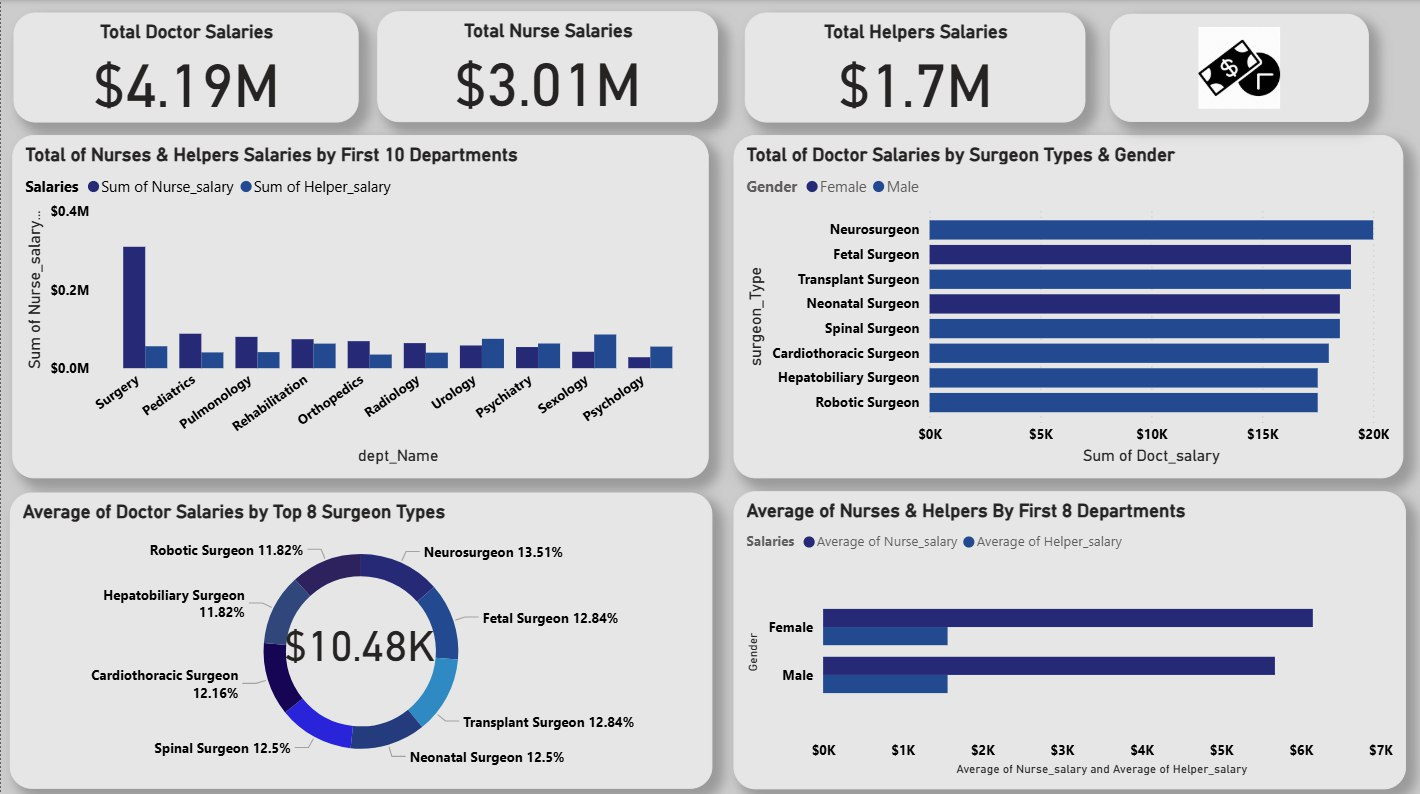

This screenshot's page, from the dashboard's own definition file:
{"tool":"powerbi","page":{"name":"2","canvas":[1280,720],"ordinal":1},"visuals":[{"type":"card","title":"Total Doctor Salaries","fields":{"Values":["Sum(Doctors.Doct_salary)"]},"box":[11.6,11.6,310.9,98.9],"z":0},{"type":"card","title":"Total Nurse Salaries","fields":{"Values":["Sum(Nurse.Nurse_salary)"]},"box":[339.1,10.3,307,100.2],"z":1000},{"type":"card","title":"Total Helpers  Salaries","fields":{"Values":["Sum(Helpers.Helper_salary)"]},"box":[670.6,11.6,307,98.9],"z":2000},{"type":"clusteredColumnChart","title":"Total of Nurses & Helpers Salaries by First 10 Departments","fields":{"Y":["Sum(Nurse.Nurse_salary)","Sum(Helpers.Helper_salary)"],"Category":["Department.dept_Name"]},"box":[10.3,122,628.2,309.6],"z":3000},{"type":"group","id":"g1","title":"Group 1","box":[7.7,444.5,633.3,267.2],"z":3000,"group":"g2"},{"type":"donutChart","title":"Average of Doctor Salaries by Top 8 Surgeon Types","fields":{"Y":["Avg(Doctors.Doct_salary)"],"Category":["Doctors.surgeon_Type"]},"box":[7.7,444.5,633.3,267.2],"z":3000,"group":"g3"},{"type":"group","id":"g2","title":"Group 3","box":[7.7,444.5,633.3,267.2],"z":4000},{"type":"group","id":"g3","title":"Group 2","box":[7.7,444.5,633.3,267.2],"z":4003,"group":"g1"},{"type":"barChart","title":"Total of Doctor Salaries by Surgeon Types & Gender","fields":{"Y":["Sum(Doctors.Doct_salary)"],"Series":["Doctors.Gender"],"Category":["Doctors.surgeon_Type"]},"box":[660.3,122,603.8,309.6],"z":5000},{"type":"card","fields":{"Values":["Avg(Doctors.Doct_salary)"]},"box":[199.6,549.9,247.9,57.5],"z":5000,"group":"g2"},{"type":"clusteredBarChart","title":"Average of Nurses & Helpers By First 8 Departments","fields":{"Y":["Avg(Nurse.Nurse_salary)","Avg(Helpers.Helper_salary)"],"Category":["Nurse.Gender"]},"box":[660.3,443.2,606.3,268.5],"z":6000},{"type":"image","box":[999.4,12.8,233.8,97.6],"z":8000}]}

Visuals, with their boxes in screenshot pixels (x1, y1, x2, y2), scaled from the page's 1280x720 canvas onto the 1420x794 screenshot:
"Total Doctor Salaries" card: Rect(13, 13, 358, 122)
"Total Nurse Salaries" card: Rect(376, 11, 717, 122)
"Total Helpers  Salaries" card: Rect(744, 13, 1085, 122)
"Total of Nurses & Helpers Salaries by First 10 Departments" clusteredColumnChart: Rect(11, 135, 708, 476)
"Group 1" group: Rect(9, 490, 711, 785)
"Average of Doctor Salaries by Top 8 Surgeon Types" donutChart: Rect(9, 490, 711, 785)
"Group 3" group: Rect(9, 490, 711, 785)
"Group 2" group: Rect(9, 490, 711, 785)
"Total of Doctor Salaries by Surgeon Types & Gender" barChart: Rect(733, 135, 1402, 476)
card - Avg(Doctors.Doct_salary): Rect(221, 606, 496, 670)
"Average of Nurses & Helpers By First 8 Departments" clusteredBarChart: Rect(733, 489, 1405, 785)
image: Rect(1109, 14, 1368, 122)
